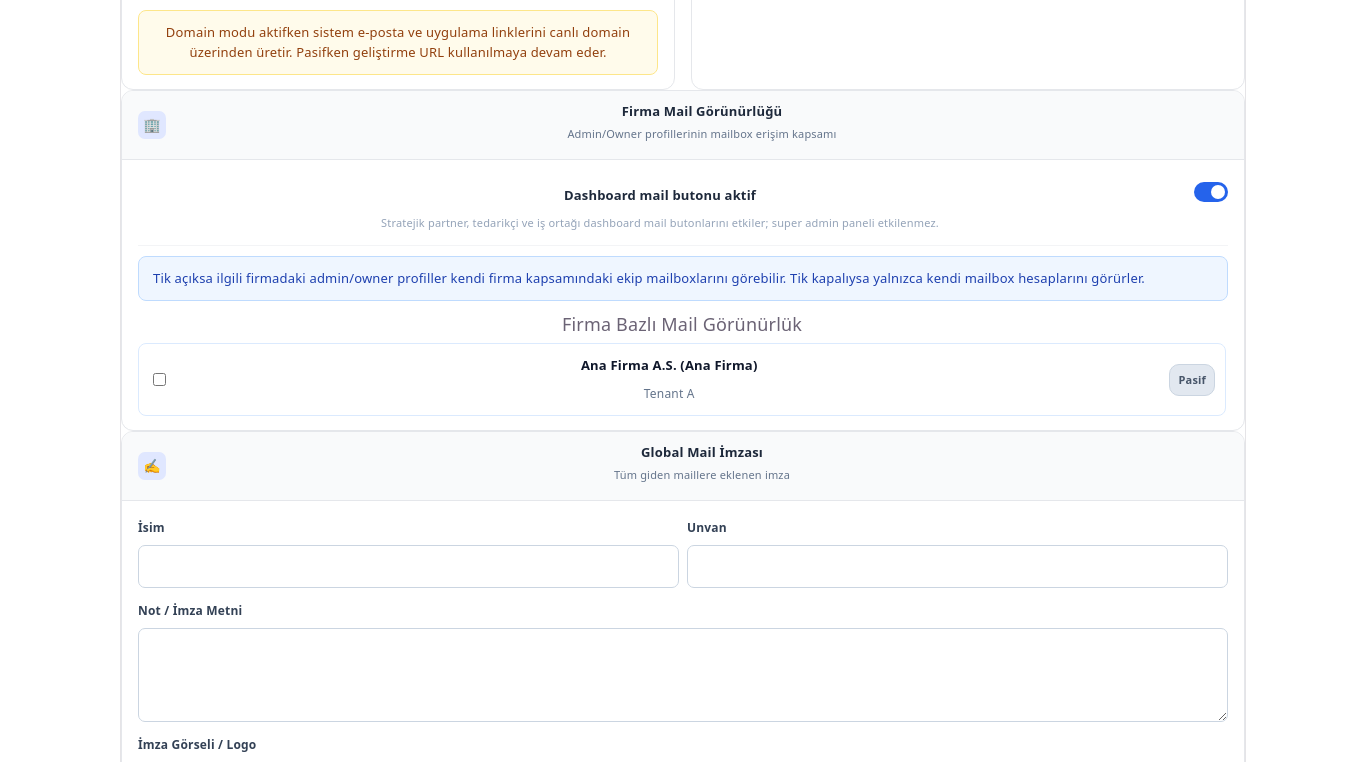
it: AdvancedSettingsTab company mail visibility › super admin firma bazli mail gorunurluk tikini gorebilir ve guncelleyebilir
(page scrolled)
Expected: the text "Firma Bazlı Mail Görünürlük" is shown, [562,312,802,336]
Expected: the text "Ana Firma A.S. (Ana Firma)" is shown, [581,356,758,374]
Click the checkbox labelled "Ana Firma A.S. (Ana Firma) Tenant A Pasif": (160, 380) [153,373,166,386]
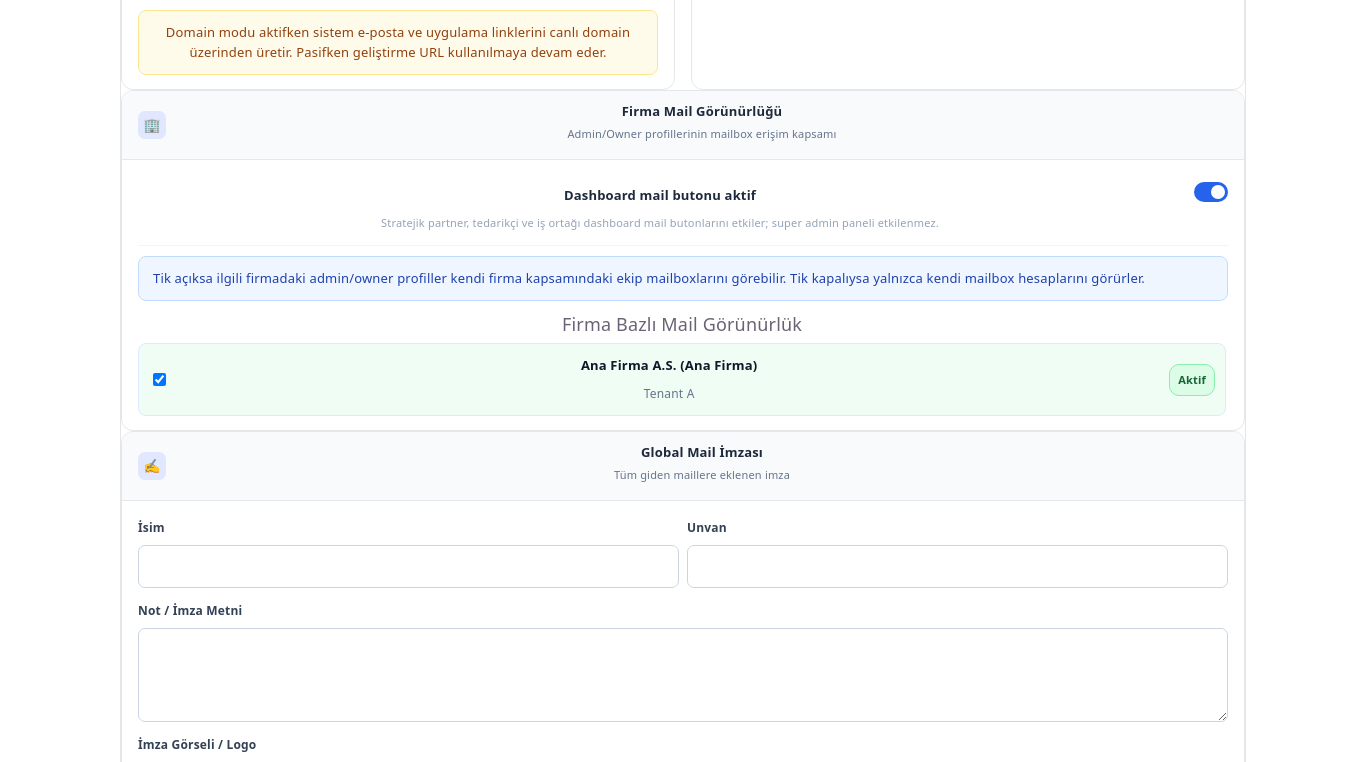
Expected: the text "Aktif" is shown, [1169,364,1215,396]
